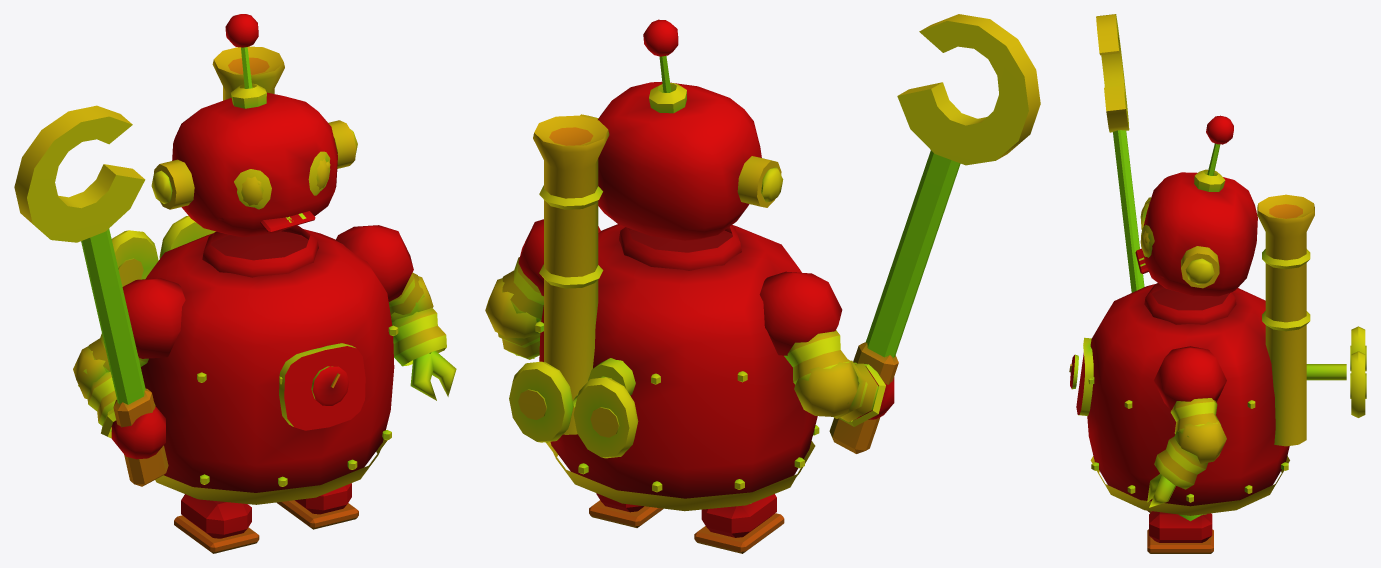
File: RobotBoiler.glb
3 renders of one model, left to right at view 1: azimuth 30°, elevation 25°; view 2: azimuth 150°, elevation 25°; view 3: azimuth 270°, elevation 25°, orthographic. The views are drawn at different scales.
Parts seen in each view (by area): view 1: RobotBoiler; view 2: RobotBoiler; view 3: RobotBoiler.
Part boxes in pixels (x1,y1,x2,y2): RobotBoiler: (14,14,456,553); RobotBoiler: (485,14,1040,553); RobotBoiler: (1069,14,1366,553).
Bounding box in the file's own units: 0.9151 × 0.9354 × 0.6082.
